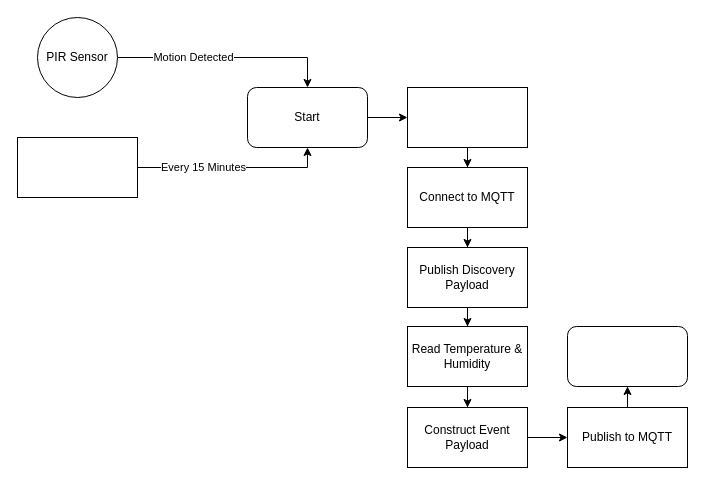
Image size: 705x485. Some labels were removed from this diagram. Each missing label, with the centre of its shape:
"Connect to Wifi" belongs at (x=467, y=117).
"Internal RTC" belongs at (x=77, y=167).
"Sleep" belongs at (x=627, y=356).
